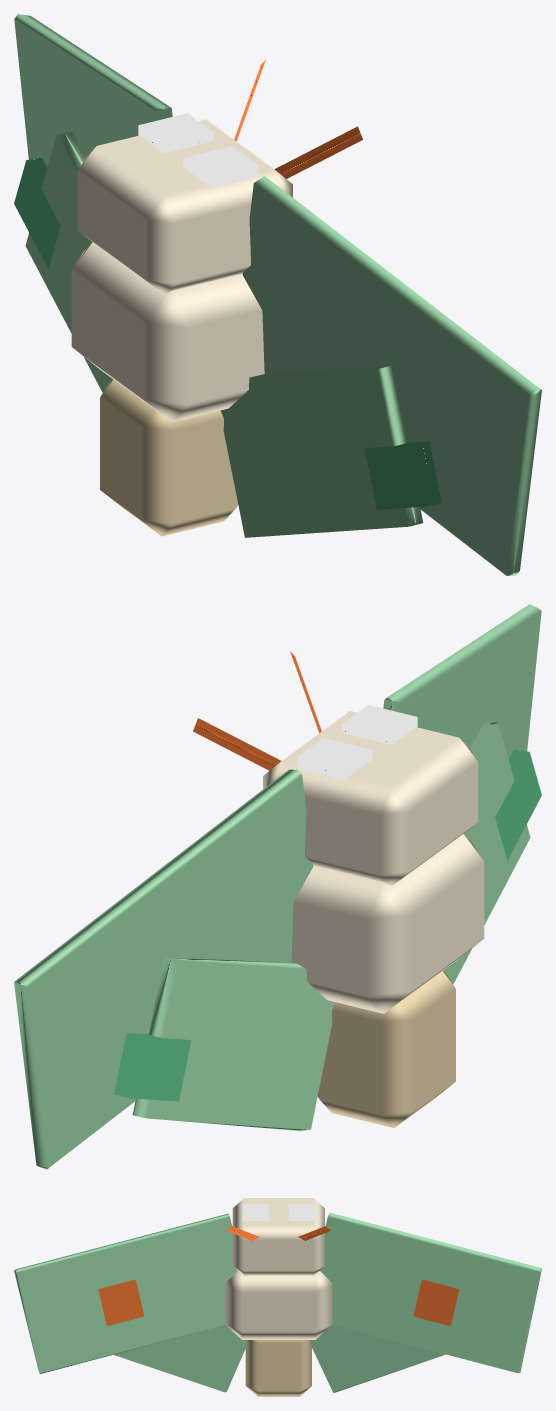
The model's file is lil-moth-lee-mason_8ojwMQpu6DK-blocky_lod2.glb.
3 views of the same model, one above another, from view 1: azimuth 30°, elevation 25°; view 2: azimuth 150°, elevation 25°; view 3: azimuth 270°, elevation 25° (orthographic). The views are drawn at different scales.
Visible parts, largest first — view 1: group866114162; view 2: group866114162; view 3: group866114162.
Boxes of the visible parts, x1,y1,x2,y2 form: group866114162: [14, 14, 541, 575]; group866114162: [14, 604, 541, 1169]; group866114162: [14, 1198, 541, 1396].
Size of the model in its own units: 1.44 by 2.6 by 6.28.
Materials: 1 (1 with a texture image).
